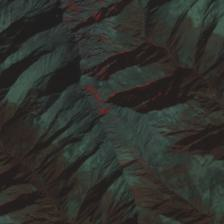landslides: (146, 67, 158, 82)
